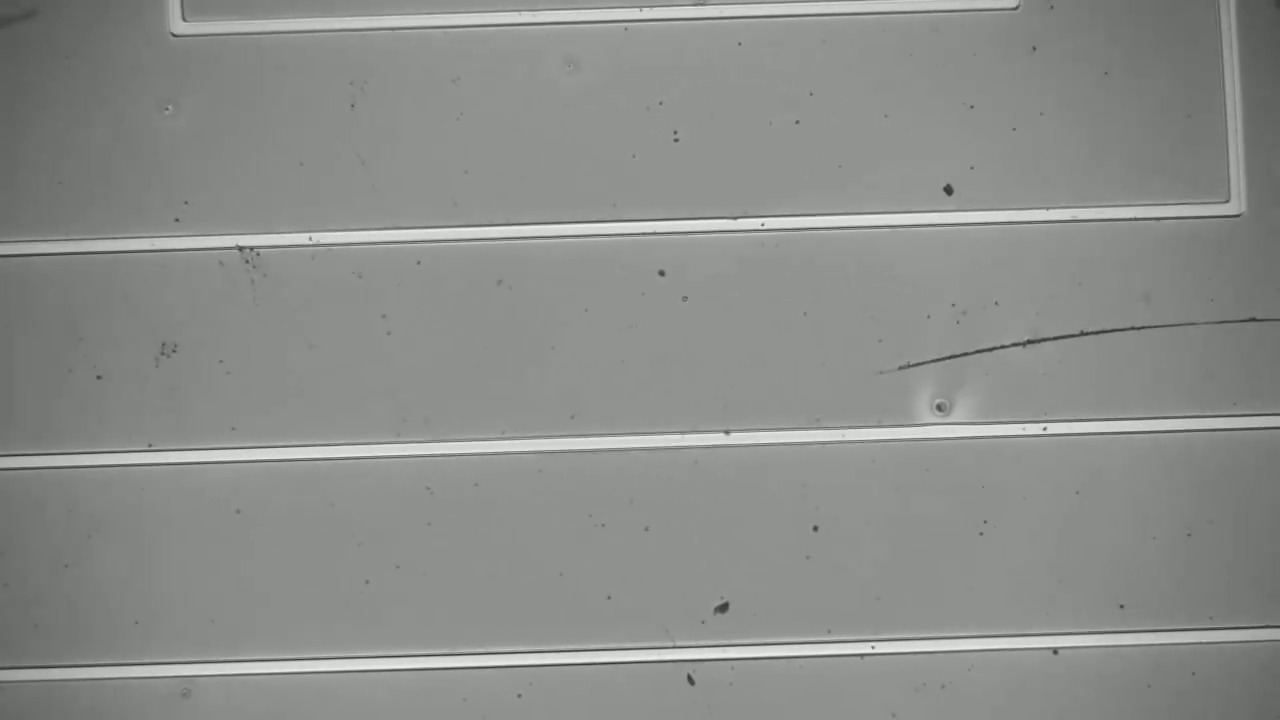scratch: (884, 302, 1280, 366)
